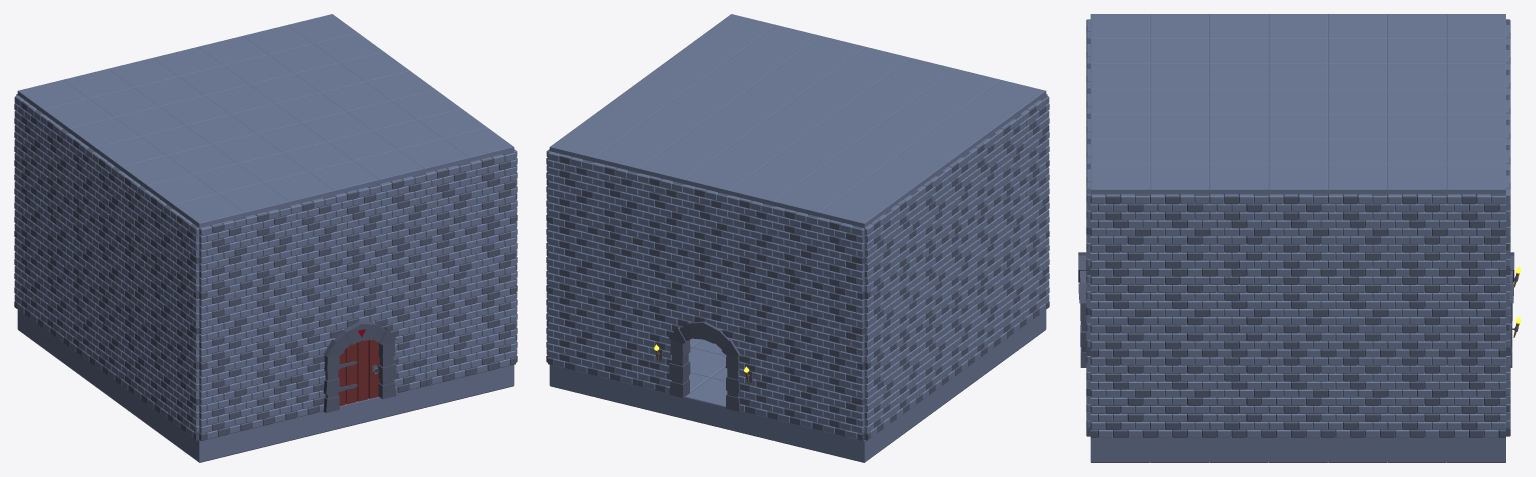
Rendered from Room_7x7.gltf.
3 renders of one model, left to right at view 1: azimuth 30°, elevation 25°; view 2: azimuth 150°, elevation 25°; view 3: azimuth 270°, elevation 25°, orthographic. The views are drawn at different scales.
Visible parts, largest first — view 1: ArchOpen.001, Wall_S_0_T2, Wall_S_0_T0, Wall_S_0_T1, Wall_S_5_T2, Wall_S_1_T2, Wall_S_3_T2, Wall_S_4_T2, Wall_S_6_T2, Wall_S_2_T2, Wall_S_5_T0, Wall_S_5_T1 (+91 smaller); view 2: ArchOpen, Wall_N_0_T2, Wall_N_0_T0, Wall_N_0_T1, Wall_N_5_T2, Wall_N_1_T2, Wall_N_3_T2, Wall_N_4_T2, Wall_N_6_T2, Wall_N_2_T2, Wall_N_5_T0, Wall_N_5_T1 (+91 smaller); view 3: Wall_E_1_T2, Wall_E_6_T2, Wall_E_3_T2, Wall_E_4_T2, Wall_E_5_T2, Wall_E_0_T2, Wall_E_2_T2, Wall_E_2_T1, Wall_E_5_T1, Wall_E_0_T1, Wall_E_1_T1, Wall_E_4_T1 (+68 smaller).
Part boxes in pixels (x1=…): ArchOpen.001: x1=290, y1=316, x2=425, y2=418; Wall_S_0_T2: x1=199, y1=217, x2=246, y2=299; Wall_S_0_T0: x1=199, y1=360, x2=246, y2=440; Wall_S_0_T1: x1=199, y1=289, x2=246, y2=370; Wall_S_5_T2: x1=424, y1=162, x2=471, y2=244; Wall_S_1_T2: x1=244, y1=206, x2=291, y2=288; Wall_S_3_T2: x1=334, y1=184, x2=381, y2=266; Wall_S_4_T2: x1=379, y1=173, x2=426, y2=255; Wall_S_6_T2: x1=469, y1=151, x2=515, y2=233; Wall_S_2_T2: x1=289, y1=195, x2=336, y2=277; Wall_S_5_T0: x1=425, y1=305, x2=471, y2=385; Wall_S_5_T1: x1=425, y1=234, x2=471, y2=315; ArchOpen: x1=638, y1=316, x2=773, y2=418; Wall_N_0_T2: x1=817, y1=217, x2=864, y2=299; Wall_N_0_T0: x1=817, y1=360, x2=864, y2=440; Wall_N_0_T1: x1=817, y1=289, x2=864, y2=370; Wall_N_5_T2: x1=592, y1=162, x2=639, y2=244; Wall_N_1_T2: x1=772, y1=206, x2=819, y2=288; Wall_N_3_T2: x1=682, y1=184, x2=729, y2=266; Wall_N_4_T2: x1=637, y1=173, x2=684, y2=255; Wall_N_6_T2: x1=548, y1=151, x2=594, y2=233; Wall_N_2_T2: x1=727, y1=195, x2=774, y2=277; Wall_N_5_T0: x1=592, y1=305, x2=638, y2=385; Wall_N_5_T1: x1=592, y1=234, x2=638, y2=315; Wall_E_1_T2: x1=1150, y1=194, x2=1209, y2=276; Wall_E_6_T2: x1=1446, y1=194, x2=1505, y2=276; Wall_E_3_T2: x1=1268, y1=194, x2=1327, y2=276; Wall_E_4_T2: x1=1328, y1=194, x2=1387, y2=276; Wall_E_5_T2: x1=1387, y1=194, x2=1446, y2=276; Wall_E_0_T2: x1=1090, y1=194, x2=1149, y2=276; Wall_E_2_T2: x1=1209, y1=194, x2=1268, y2=276; Wall_E_2_T1: x1=1209, y1=276, x2=1268, y2=357; Wall_E_5_T1: x1=1387, y1=276, x2=1446, y2=357; Wall_E_0_T1: x1=1090, y1=276, x2=1149, y2=357; Wall_E_1_T1: x1=1150, y1=276, x2=1209, y2=357; Wall_E_4_T1: x1=1328, y1=276, x2=1387, y2=357.
Size of the model in its own units: 14.3 by 10.2 by 14.93.
